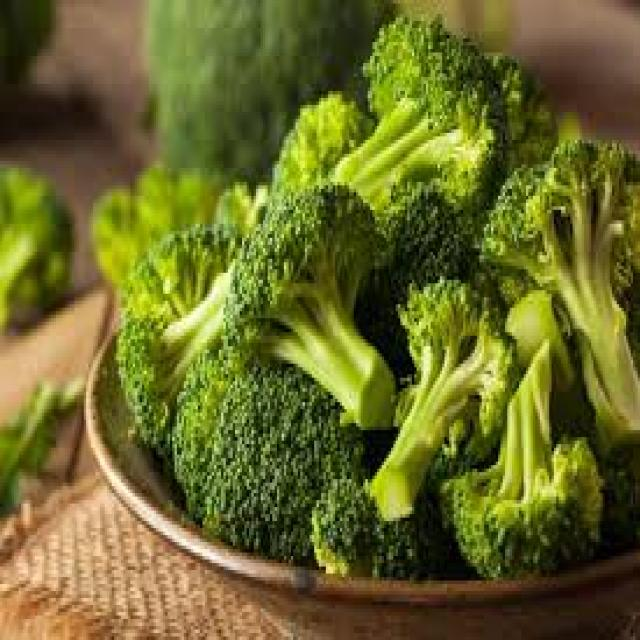organic waste: (477, 133, 638, 437), (219, 178, 393, 427), (170, 332, 361, 556), (146, 0, 393, 164), (440, 336, 598, 574), (323, 11, 502, 220), (368, 269, 510, 518), (507, 286, 631, 518), (116, 269, 235, 465), (91, 164, 228, 290), (302, 465, 440, 581), (0, 161, 79, 325), (377, 175, 472, 301), (119, 228, 242, 318), (0, 378, 79, 514), (266, 84, 372, 178), (484, 49, 556, 161), (0, 0, 49, 84)
